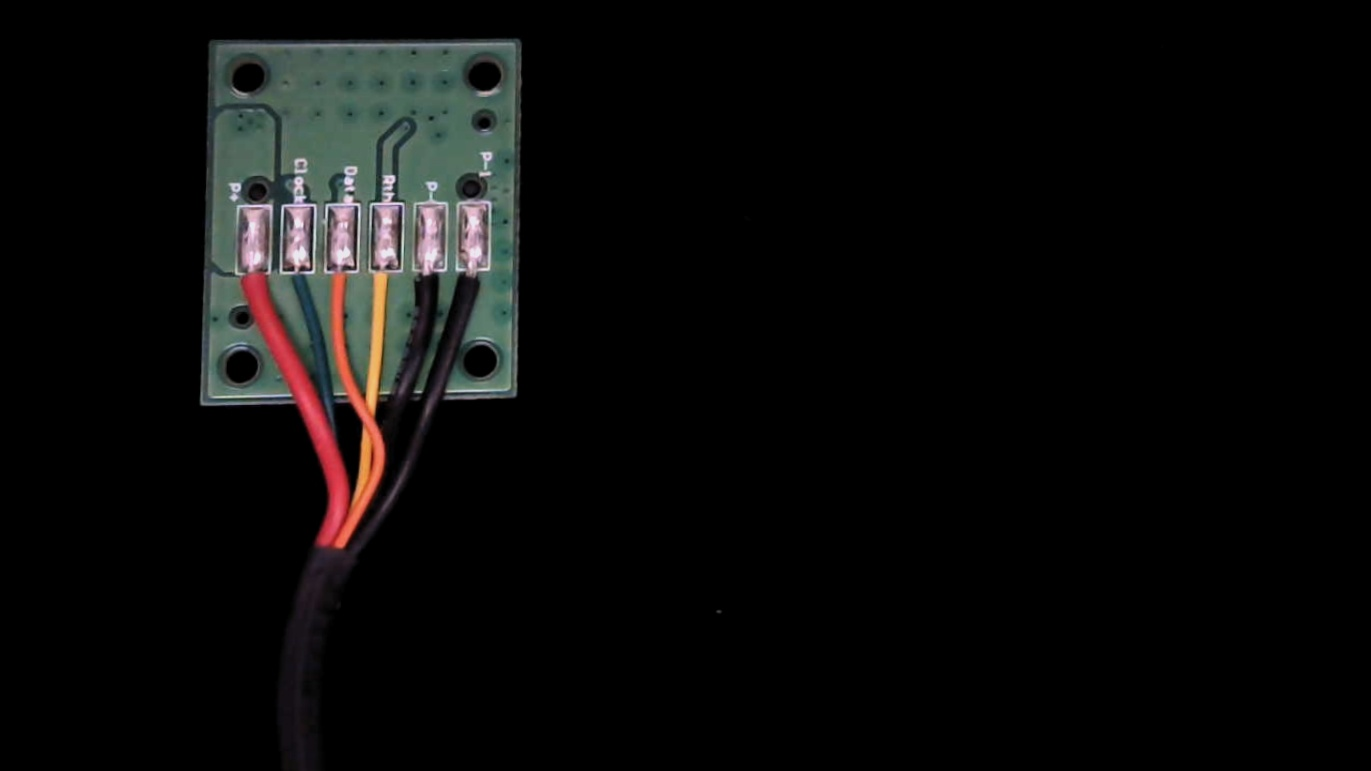Black: (409, 254, 444, 324)
Black1: (452, 255, 491, 328)
Green: (279, 255, 318, 318)
Orange: (321, 256, 358, 319)
Red: (232, 260, 269, 327)
Yellow: (365, 252, 405, 323)
